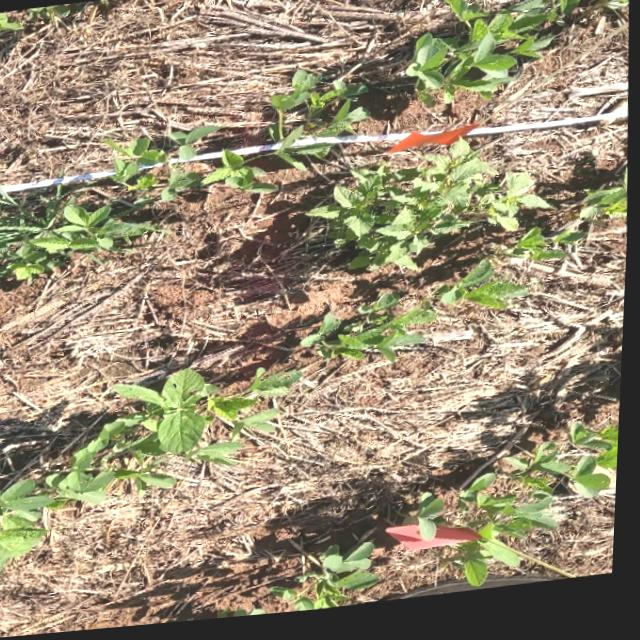caruru_weed: (310, 148, 548, 276)
grassy_weed: (0, 186, 68, 284)
soy_plant: (0, 371, 304, 575), (455, 434, 623, 594), (406, 0, 627, 112), (305, 265, 531, 367), (109, 129, 277, 209), (505, 179, 628, 269), (273, 74, 368, 169), (280, 548, 382, 617), (32, 205, 158, 252), (418, 501, 455, 546), (0, 11, 23, 31)
